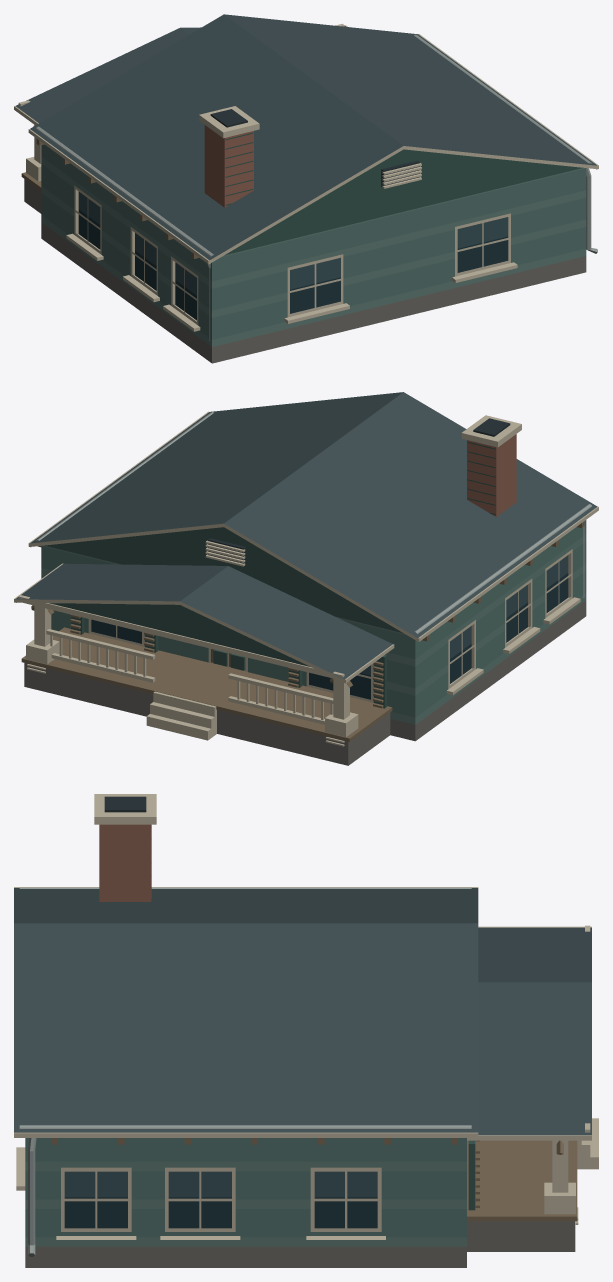
File: house-6k-1floor.glb
3 views of the same model, one above another, from view 1: azimuth 30°, elevation 25°; view 2: azimuth 150°, elevation 25°; view 3: azimuth 270°, elevation 25° (orthographic). The views are drawn at different scales.
Visible parts, largest first — view 1: house-6k-1floor; view 2: house-6k-1floor; view 3: house-6k-1floor.
Boxes of the visible parts, bbox=[...] form: house-6k-1floor: bbox=[14, 14, 598, 363]; house-6k-1floor: bbox=[14, 392, 598, 765]; house-6k-1floor: bbox=[14, 794, 598, 1267].
Bounding box in the file's own units: 14.18 × 6.99 × 14.05.
